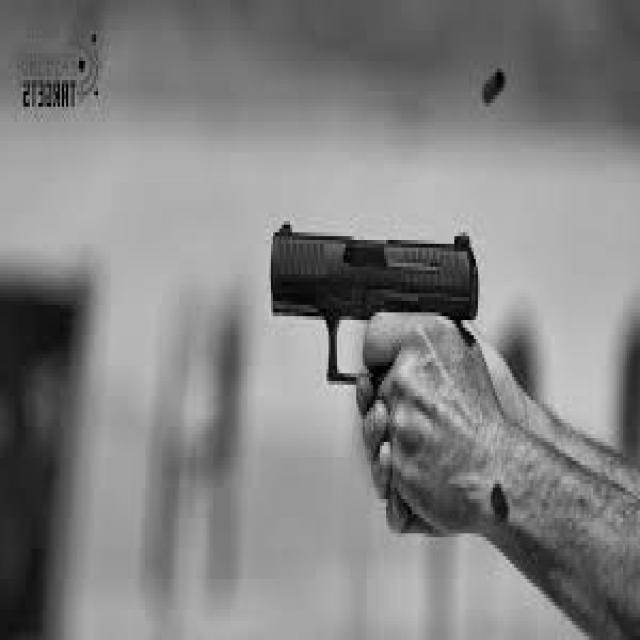weapons: (252, 187, 504, 449)
